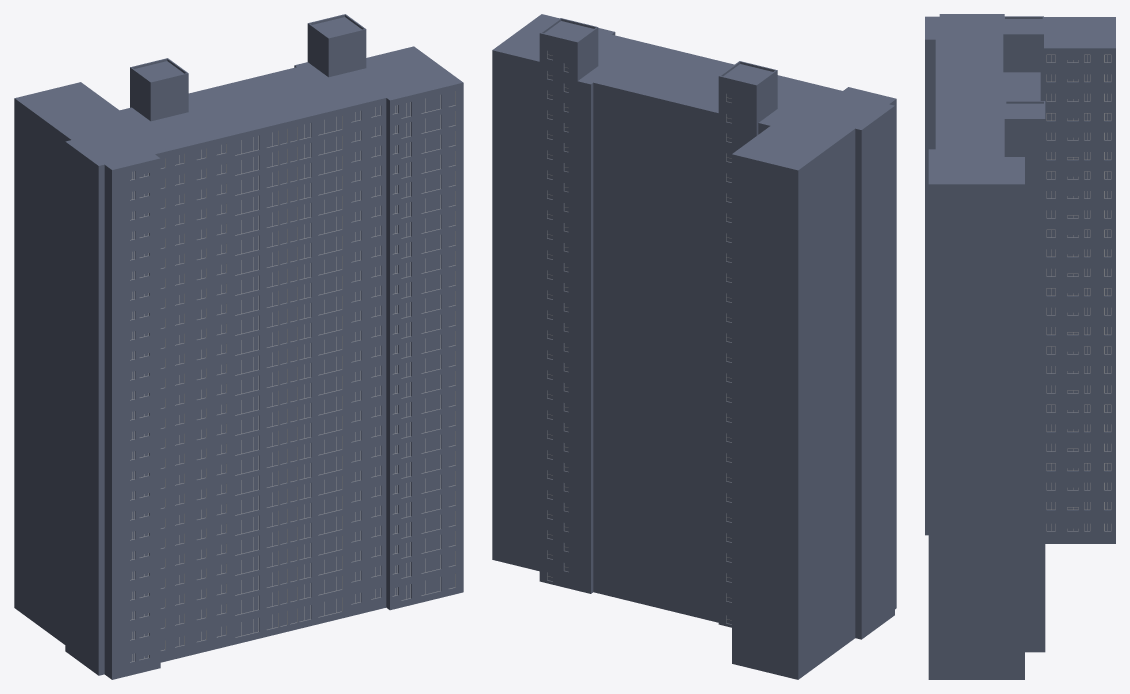
Rendered from Apt_Mid.glb.gltf.
3 views of the same model, side by side, from view 1: azimuth 30°, elevation 25°; view 2: azimuth 150°, elevation 25°; view 3: azimuth 270°, elevation 25° (orthographic). The views are drawn at different scales.
Parts seen in each view (by area): view 1: Rectangle001, Object001, Rectangle002, Line001, Object005, Rectangle003; view 2: Rectangle002, Rectangle001, Rectangle004, Line001, Rectangle003, Object004, Object005, Object003; view 3: Rectangle001, Rectangle002, Line001, Object005, Object002, Rectangle003.
Boxes of the visible parts, x1,y1,x2,y2 form: Rectangle001: (65,82,463,679); Object001: (130,91,455,662); Rectangle002: (14,65,296,644); Line001: (14,46,462,169); Object005: (307,14,366,77); Rectangle003: (130,58,188,121); Rectangle002: (577,81,855,679); Rectangle001: (492,32,896,639); Rectangle004: (539,33,577,590); Line001: (492,14,896,170); Rectangle003: (718,61,777,627); Object004: (547,50,568,581); Object005: (540,18,598,80); Object003: (726,93,731,624); Rectangle001: (925,39,1024,679); Rectangle002: (1044,48,1115,543); Line001: (925,14,1115,184); Object005: (1004,101,1045,652); Object002: (1046,54,1111,531); Rectangle003: (1003,16,1043,100).
Size of the model in its own units: 53.55 by 78.19 by 25.35.
